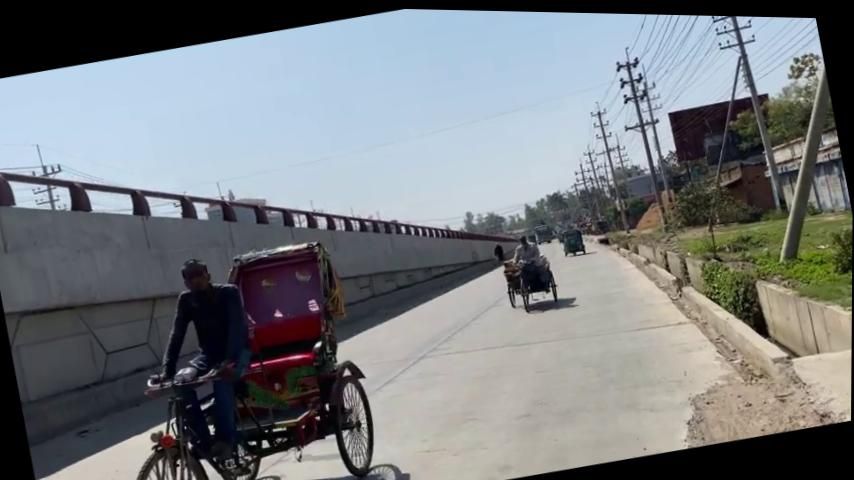Fallen-tree: (0, 65, 530, 348)
Fence: (129, 247, 277, 480), (506, 228, 554, 295)
Garbage: (742, 59, 854, 262), (696, 12, 789, 215)
Garbage-bin: (688, 243, 836, 376)
Muddy road: (81, 227, 391, 480), (499, 248, 562, 314)
